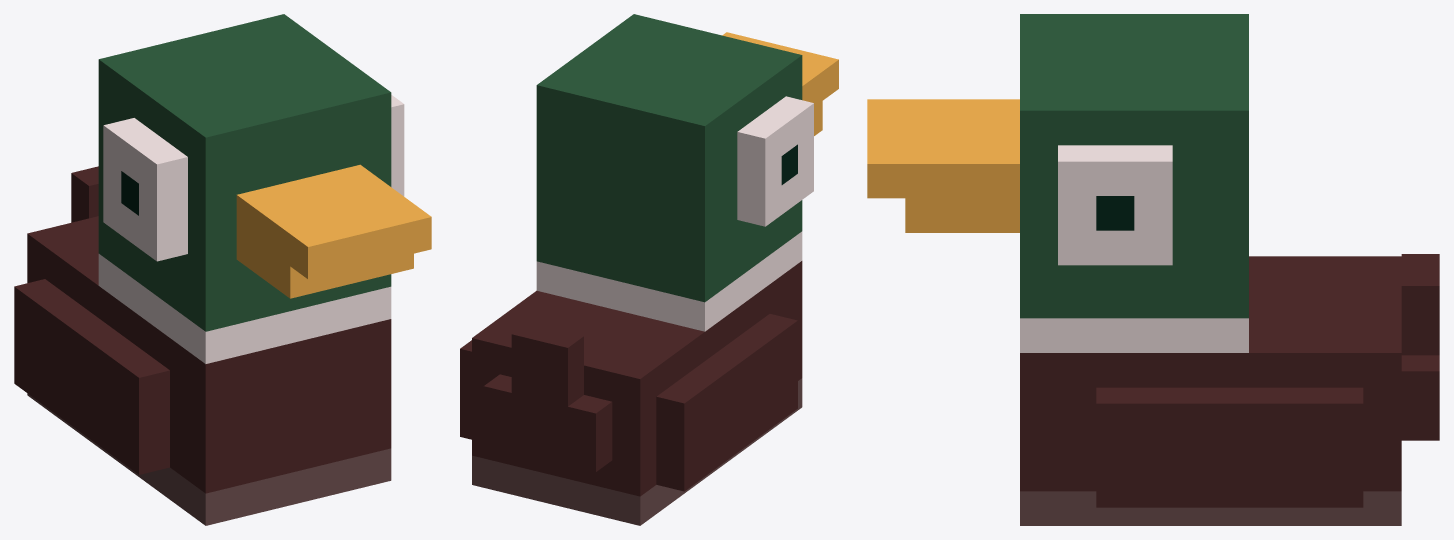
File: duck open eyes.vox.obj
3 renders of one model, left to right at view 1: azimuth 30°, elevation 25°; view 2: azimuth 150°, elevation 25°; view 3: azimuth 270°, elevation 25°, orthographic. The views are drawn at different scales.
Bounding box in the file's own units: 0.8 × 1.2 × 1.5.
1 material, 1 textured.
